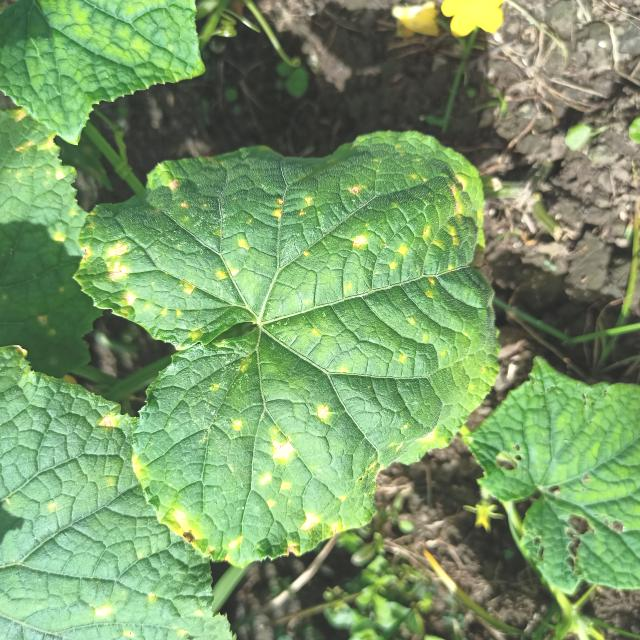disease_cucumber: (103, 150, 481, 566)
